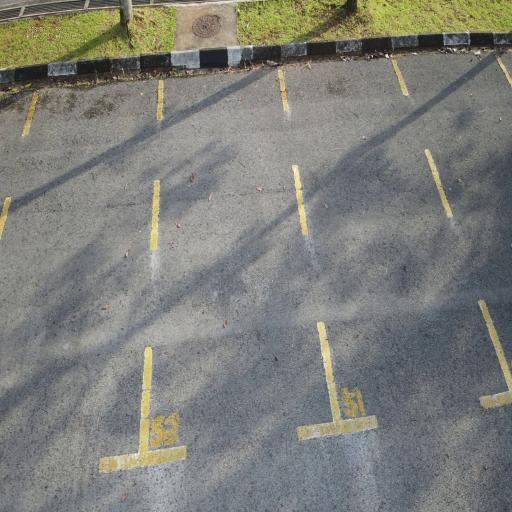Empty: (136, 38, 348, 477)
